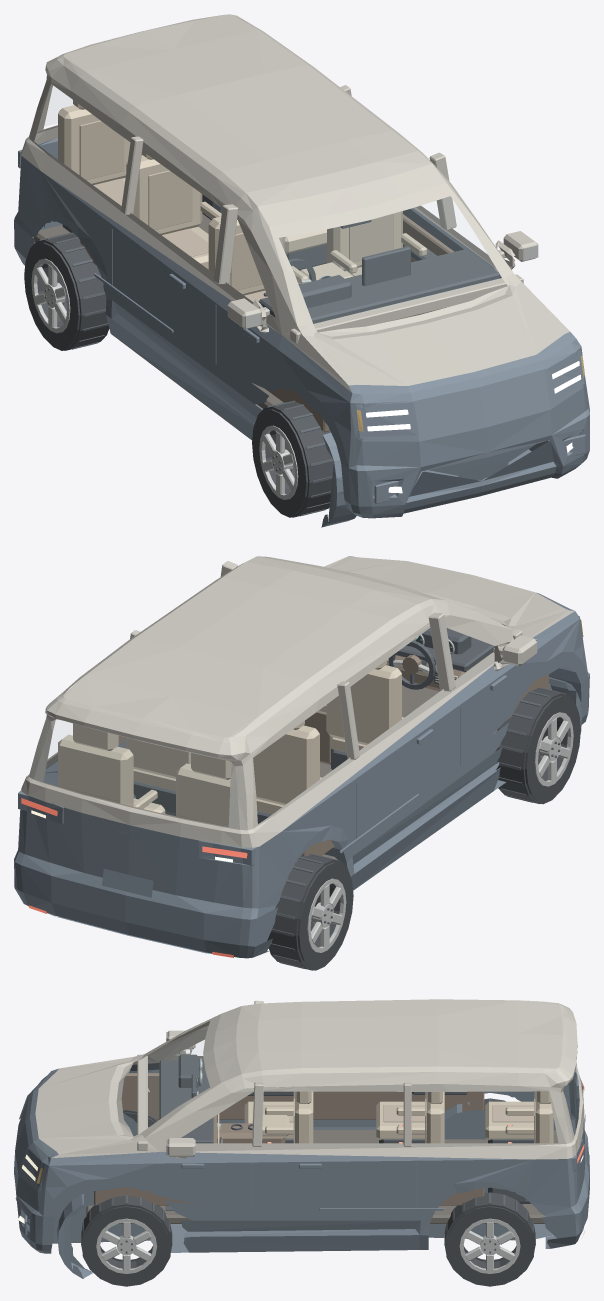
Rendered from OriginalMPV.glb.
3 views of the same model, one above another, from view 1: azimuth 30°, elevation 25°; view 2: azimuth 150°, elevation 25°; view 3: azimuth 270°, elevation 25° (orthographic). The views are drawn at different scales.
Visible parts, largest first — view 1: Body_SlateBlue, Roof_WarmIvory, Body_WarmIvory, Interior_CharcoalTrim, Interior_SeatInsert, Interior_SandUpholstery, WheelRearLeft_TireRubber, WheelFrontLeft_TireRubber, WheelRearLeft_MatteAlloy, WheelFrontLeft_MatteAlloy, Interior_WalnutDashboard, Body_HeadlampCream (+3 smaller); view 2: Body_SlateBlue, Roof_WarmIvory, Body_WarmIvory, Interior_SandUpholstery, WheelFrontLeft_TireRubber, WheelRearLeft_TireRubber, Interior_CharcoalTrim, WheelRearLeft_MatteAlloy, WheelFrontLeft_MatteAlloy, Interior_WalnutDashboard, Interior_CabinFloor, WheelFrontLeft_CharcoalTrim (+3 smaller); view 3: Body_SlateBlue, Roof_WarmIvory, Body_WarmIvory, Interior_SandUpholstery, Interior_WalnutDashboard, WheelRearRight_TireRubber, WheelFrontRight_TireRubber, Interior_CharcoalTrim, Interior_CabinFloor, WheelFrontRight_MatteAlloy, WheelRearRight_MatteAlloy, Interior_SeatInsert.
Boxes of the visible parts, box(x1,y1,x2,y2) form: Body_SlateBlue: box(14, 138, 589, 527); Roof_WarmIvory: box(45, 14, 447, 226); Body_WarmIvory: box(21, 70, 569, 392); Interior_CharcoalTrim: box(62, 194, 499, 323); Interior_SeatInsert: box(79, 120, 393, 301); Interior_SandUpholstery: box(58, 100, 427, 295); WheelRearLeft_TireRubber: box(24, 233, 109, 350); WheelFrontLeft_TireRubber: box(252, 401, 333, 517); WheelRearLeft_MatteAlloy: box(31, 258, 70, 333); WheelFrontLeft_MatteAlloy: box(259, 425, 298, 499); Interior_WalnutDashboard: box(80, 214, 454, 432); Body_HeadlampCream: box(366, 361, 581, 493); Body_SlateBlue: box(14, 556, 589, 958); Roof_WarmIvory: box(45, 556, 446, 759); Body_WarmIvory: box(21, 556, 574, 847); Interior_SandUpholstery: box(58, 639, 457, 826); WheelFrontLeft_TireRubber: box(495, 688, 580, 804); WheelRearLeft_TireRubber: box(267, 854, 353, 970); Interior_CharcoalTrim: box(117, 628, 494, 823); WheelRearLeft_MatteAlloy: box(307, 878, 346, 952); WheelFrontLeft_MatteAlloy: box(534, 712, 573, 786); Interior_WalnutDashboard: box(118, 652, 548, 856); Interior_CabinFloor: box(165, 685, 501, 859); WheelFrontLeft_CharcoalTrim: box(496, 687, 566, 803); Body_SlateBlue: box(14, 1063, 589, 1278); Roof_WarmIvory: box(213, 999, 577, 1087); Body_WarmIvory: box(35, 1000, 584, 1159); Interior_SandUpholstery: box(202, 1060, 553, 1143); Interior_WalnutDashboard: box(94, 1073, 484, 1205); WheelRearRight_TireRubber: box(444, 1192, 535, 1286); WheelFrontRight_TireRubber: box(81, 1195, 171, 1286); Interior_CharcoalTrim: box(159, 1054, 535, 1210); Interior_CabinFloor: box(86, 1130, 558, 1223); WheelFrontRight_MatteAlloy: box(96, 1218, 157, 1273); WheelRearRight_MatteAlloy: box(459, 1218, 520, 1273); Interior_SeatInsert: box(252, 1091, 535, 1143).
Bounding box in the file's own units: 2.55 × 2.09 × 5.39.
